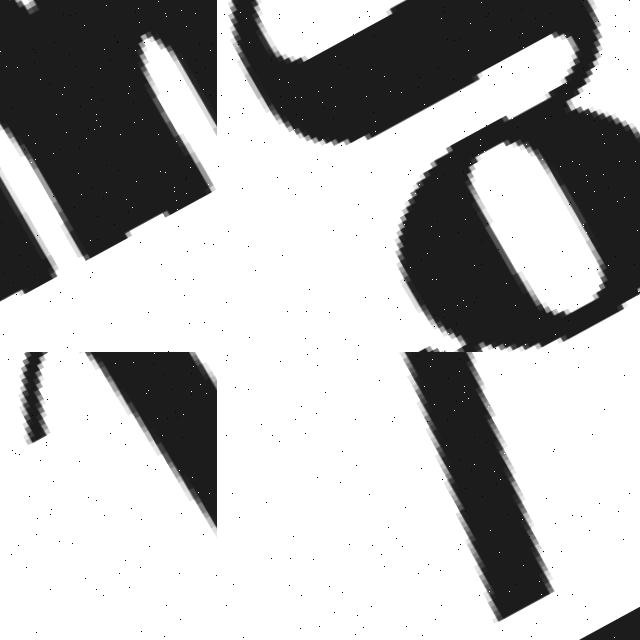G: (217, 0, 640, 352)
L: (217, 352, 640, 632)
W: (0, 0, 217, 352)
X: (0, 352, 217, 640)
